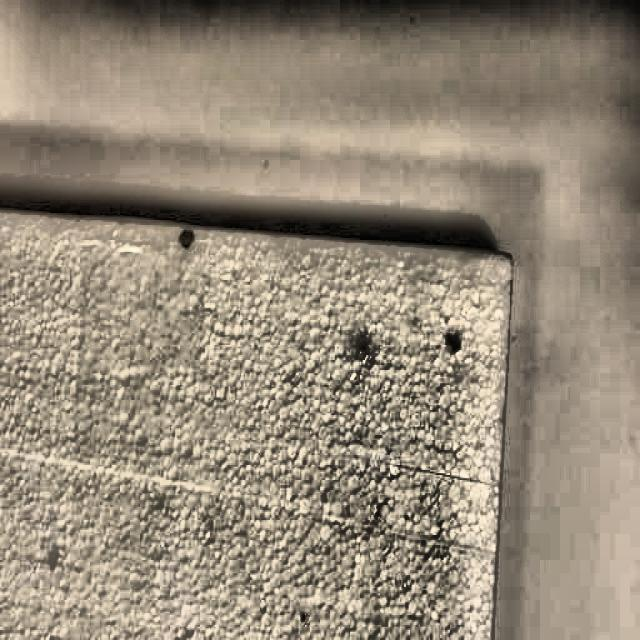trash: (0, 174, 569, 640)
